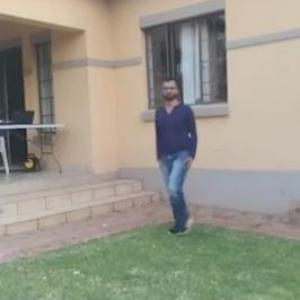follow: (157, 79, 208, 232)
